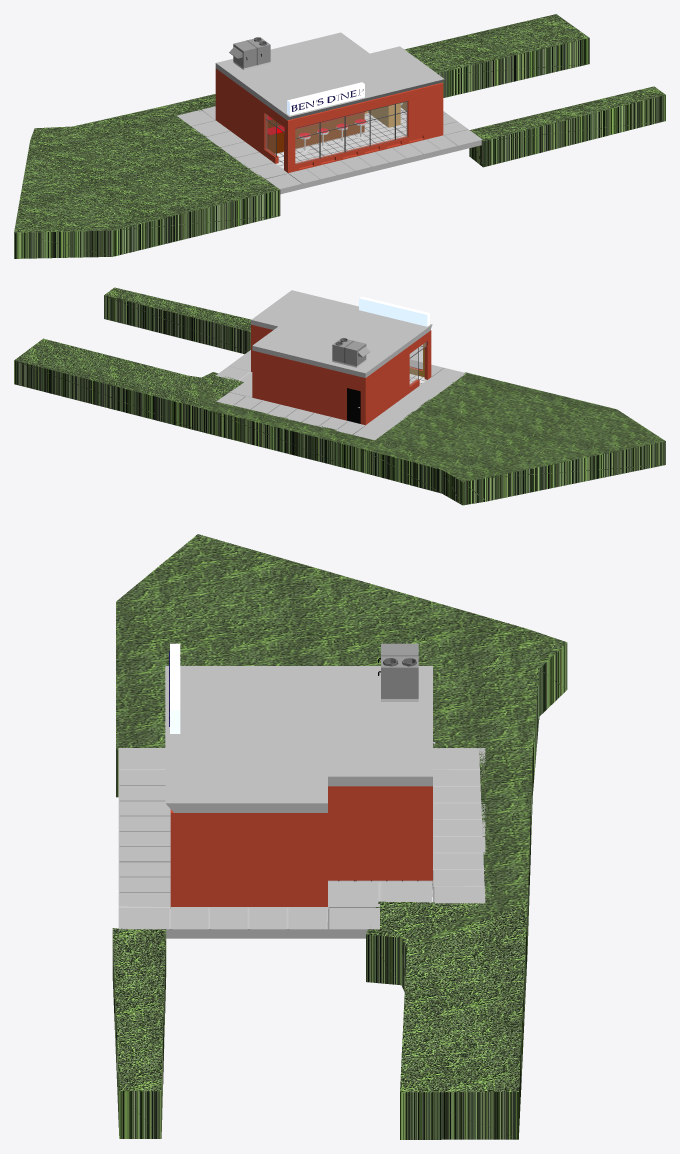
File: Ben's Diner.glb
3 renders of one model, top to bottom at view 1: azimuth 30°, elevation 25°; view 2: azimuth 150°, elevation 25°; view 3: azimuth 270°, elevation 25°, orthographic. The views are drawn at different scales.
Visible parts, largest first — view 1: Undeveloped Land.001, Roof, Ext Walls, Sidewalk, Windows, Floor, Bar, Sign, RTU, Stool.001; view 2: Undeveloped Land.001, Roof, Ext Walls, Sidewalk, Sign, RTU, KitchenDoor, Windows; view 3: Undeveloped Land.001, Roof, Sidewalk, Ext Walls, RTU, Sign.
Part boxes in pixels (<box>): Undeveloped Land.001: <box>14,14,665,258</box>; Roof: <box>215,32,444,120</box>; Ext Walls: <box>215,68,443,172</box>; Sidewalk: <box>177,106,482,194</box>; Windows: <box>265,101,407,164</box>; Floor: <box>275,108,406,168</box>; Bar: <box>267,111,365,153</box>; Sign: <box>287,82,364,115</box>; RTU: <box>229,37,270,69</box>; Stool.001: <box>299,119,366,151</box>; Undeveloped Land.001: <box>14,287,665,505</box>; Roof: <box>251,290,432,377</box>; Ext Walls: <box>251,324,431,425</box>; Sidewalk: <box>215,350,465,440</box>; Sign: <box>359,296,429,326</box>; RTU: <box>332,338,370,367</box>; KitchenDoor: <box>347,388,360,423</box>; Windows: <box>409,341,426,385</box>; Undeveloped Land.001: <box>112,534,567,1139</box>; Roof: <box>165,666,432,812</box>; Sidewalk: <box>118,748,485,938</box>; Ext Walls: <box>170,786,432,906</box>; RTU: <box>378,643,418,701</box>; Sign: <box>169,643,180,733</box>.
Size of what is drawn, in the model's own units: 38.43 by 6.02 by 13.22.
Materials: 31 (2 with a texture image).
